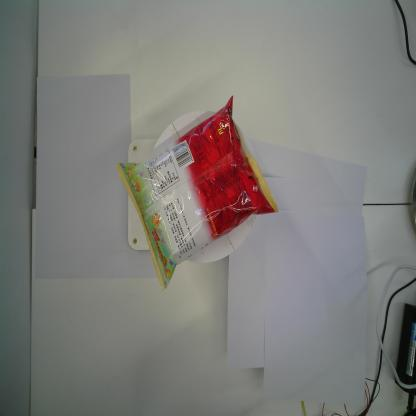Puffed Food: (115, 95, 279, 290)
